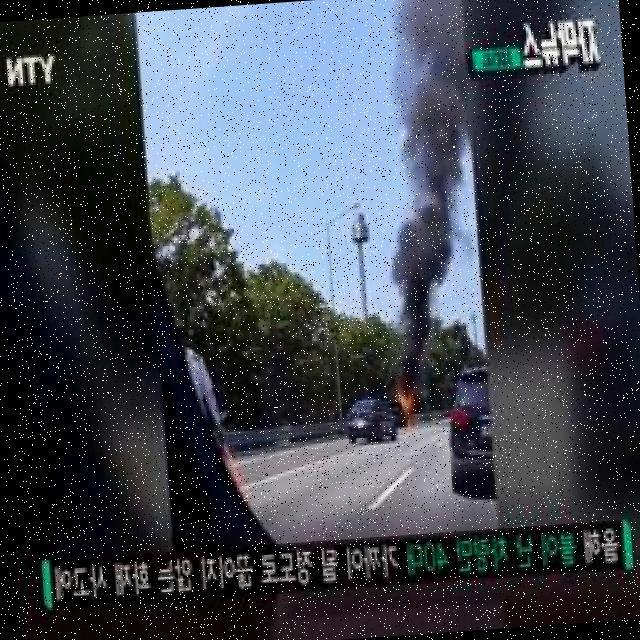Fire: (397, 396, 417, 416)
